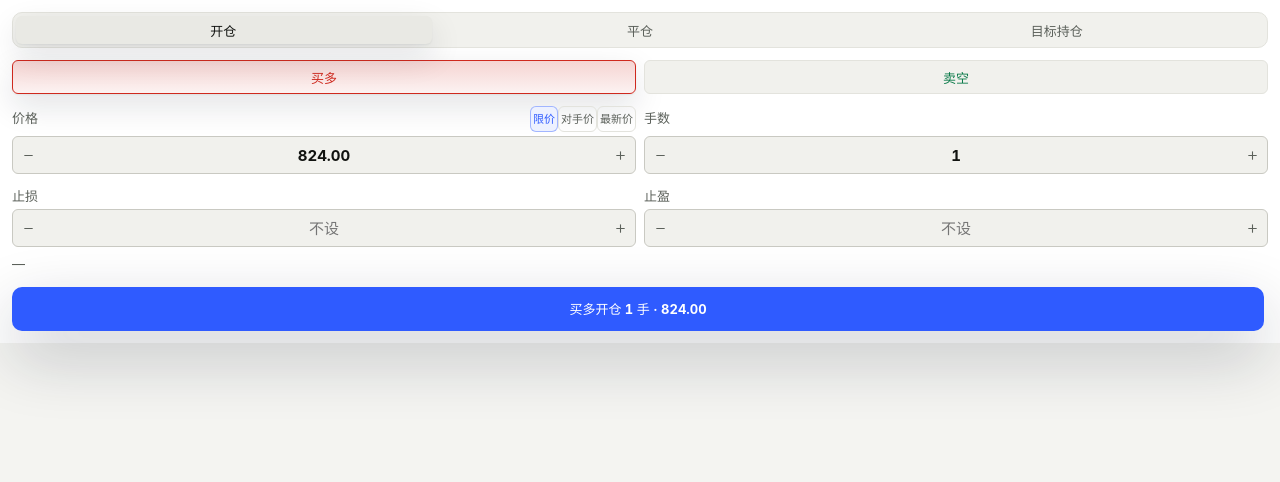
Test: TradeTicket 下单顺带保护 › 不在最小变动价位上的价格显示原因并禁用确认
Type "823.99" into the number field with test id "stop-loss-input" at (324, 228), box [43, 218, 605, 238]
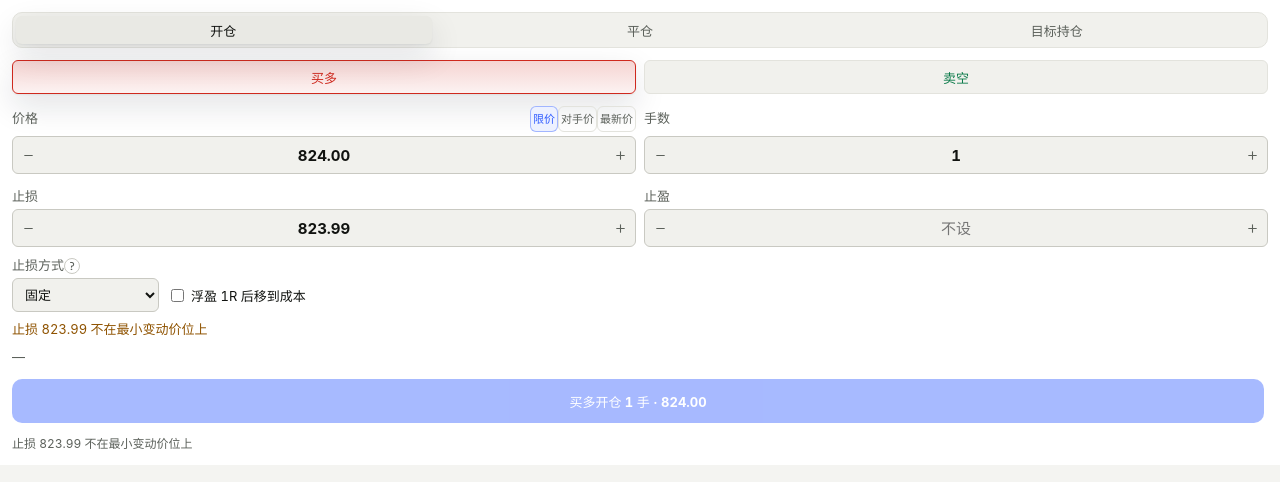
Expected: the text with test id "ticket-protection-estimate" reads "止损 823.99 不在最小变动价位上", [12, 322, 208, 338]
Expected: the button "买多开仓 1 手 · 824.00" is disabled, [12, 380, 1264, 424]
